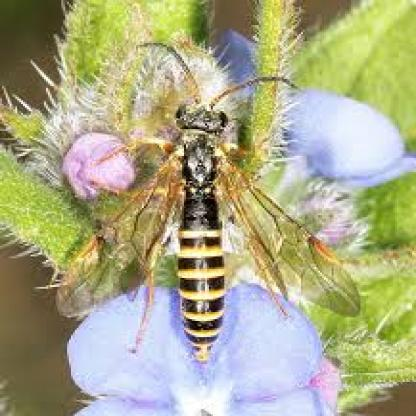sawfly: (46, 37, 369, 357)
